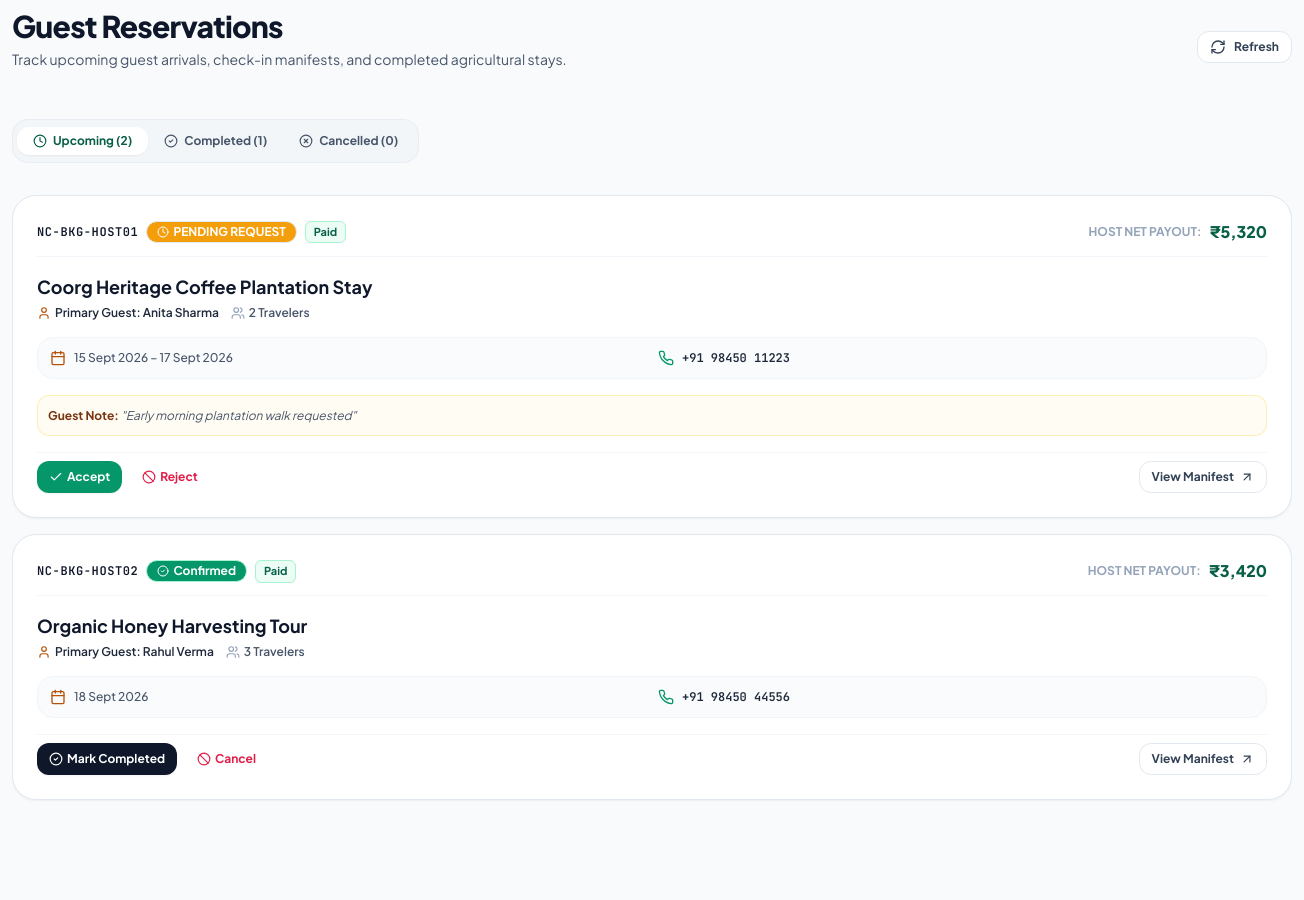
Provider Booking Management Suite › renders PartnerBookingsPage with real bookings grouped by status tabs
The image size is (1304, 900).
expect the heading "Guest Reservations" is shown: met, box x1=12 y1=7 x2=283 y2=45
expect the text "NC-BKG-HOST01" is shown: met, box x1=37 y1=224 x2=138 y2=240
Note: Tab switching to Completed
Step 1. Click the button "Completed (1)" → [216, 141], box x1=148 y1=127 x2=283 y2=155
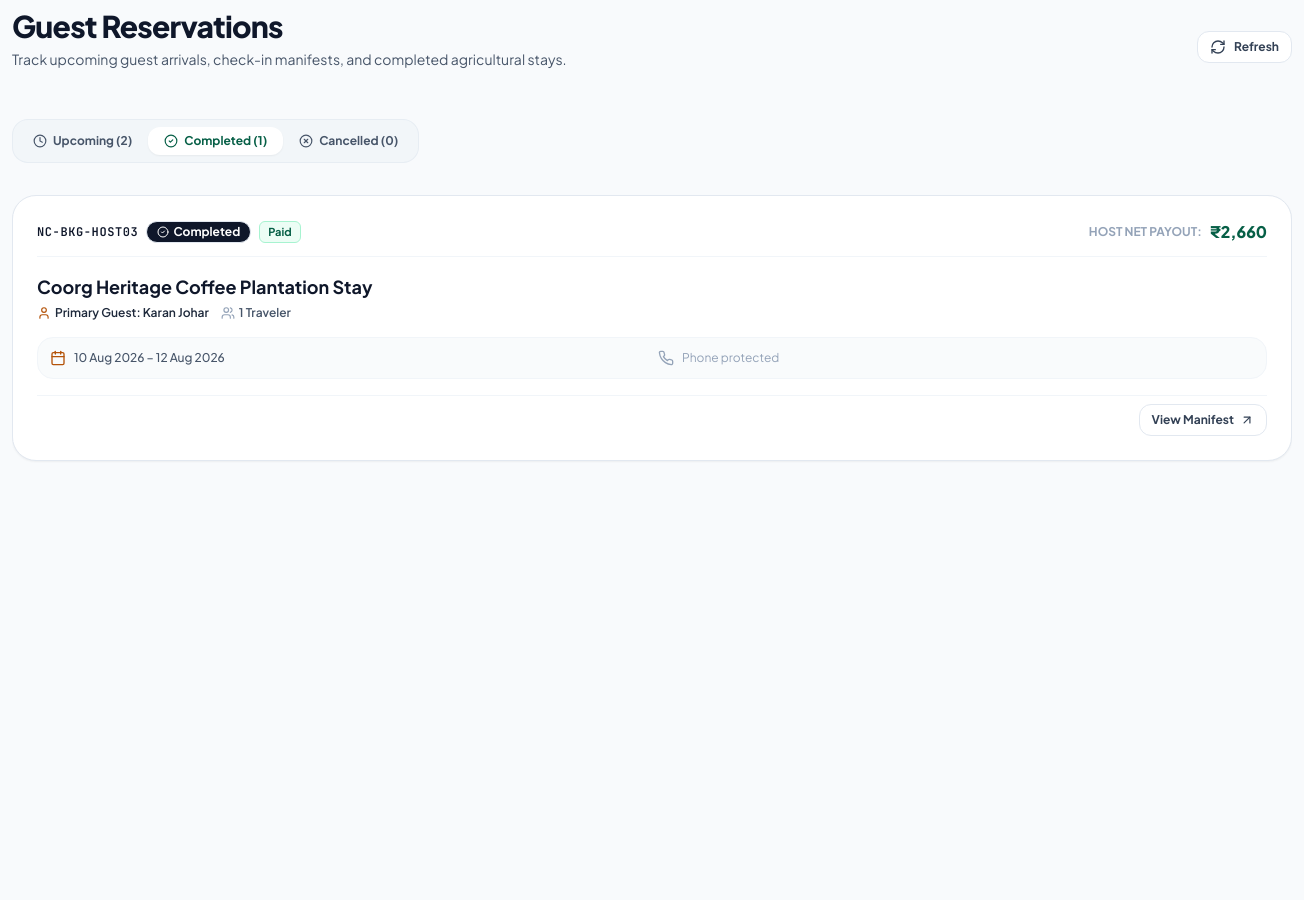
expect the text "NC-BKG-HOST03" is shown: met, box x1=37 y1=224 x2=138 y2=240
expect the text "Primary Guest: Karan Johar" is shown: met, box x1=55 y1=305 x2=209 y2=321
